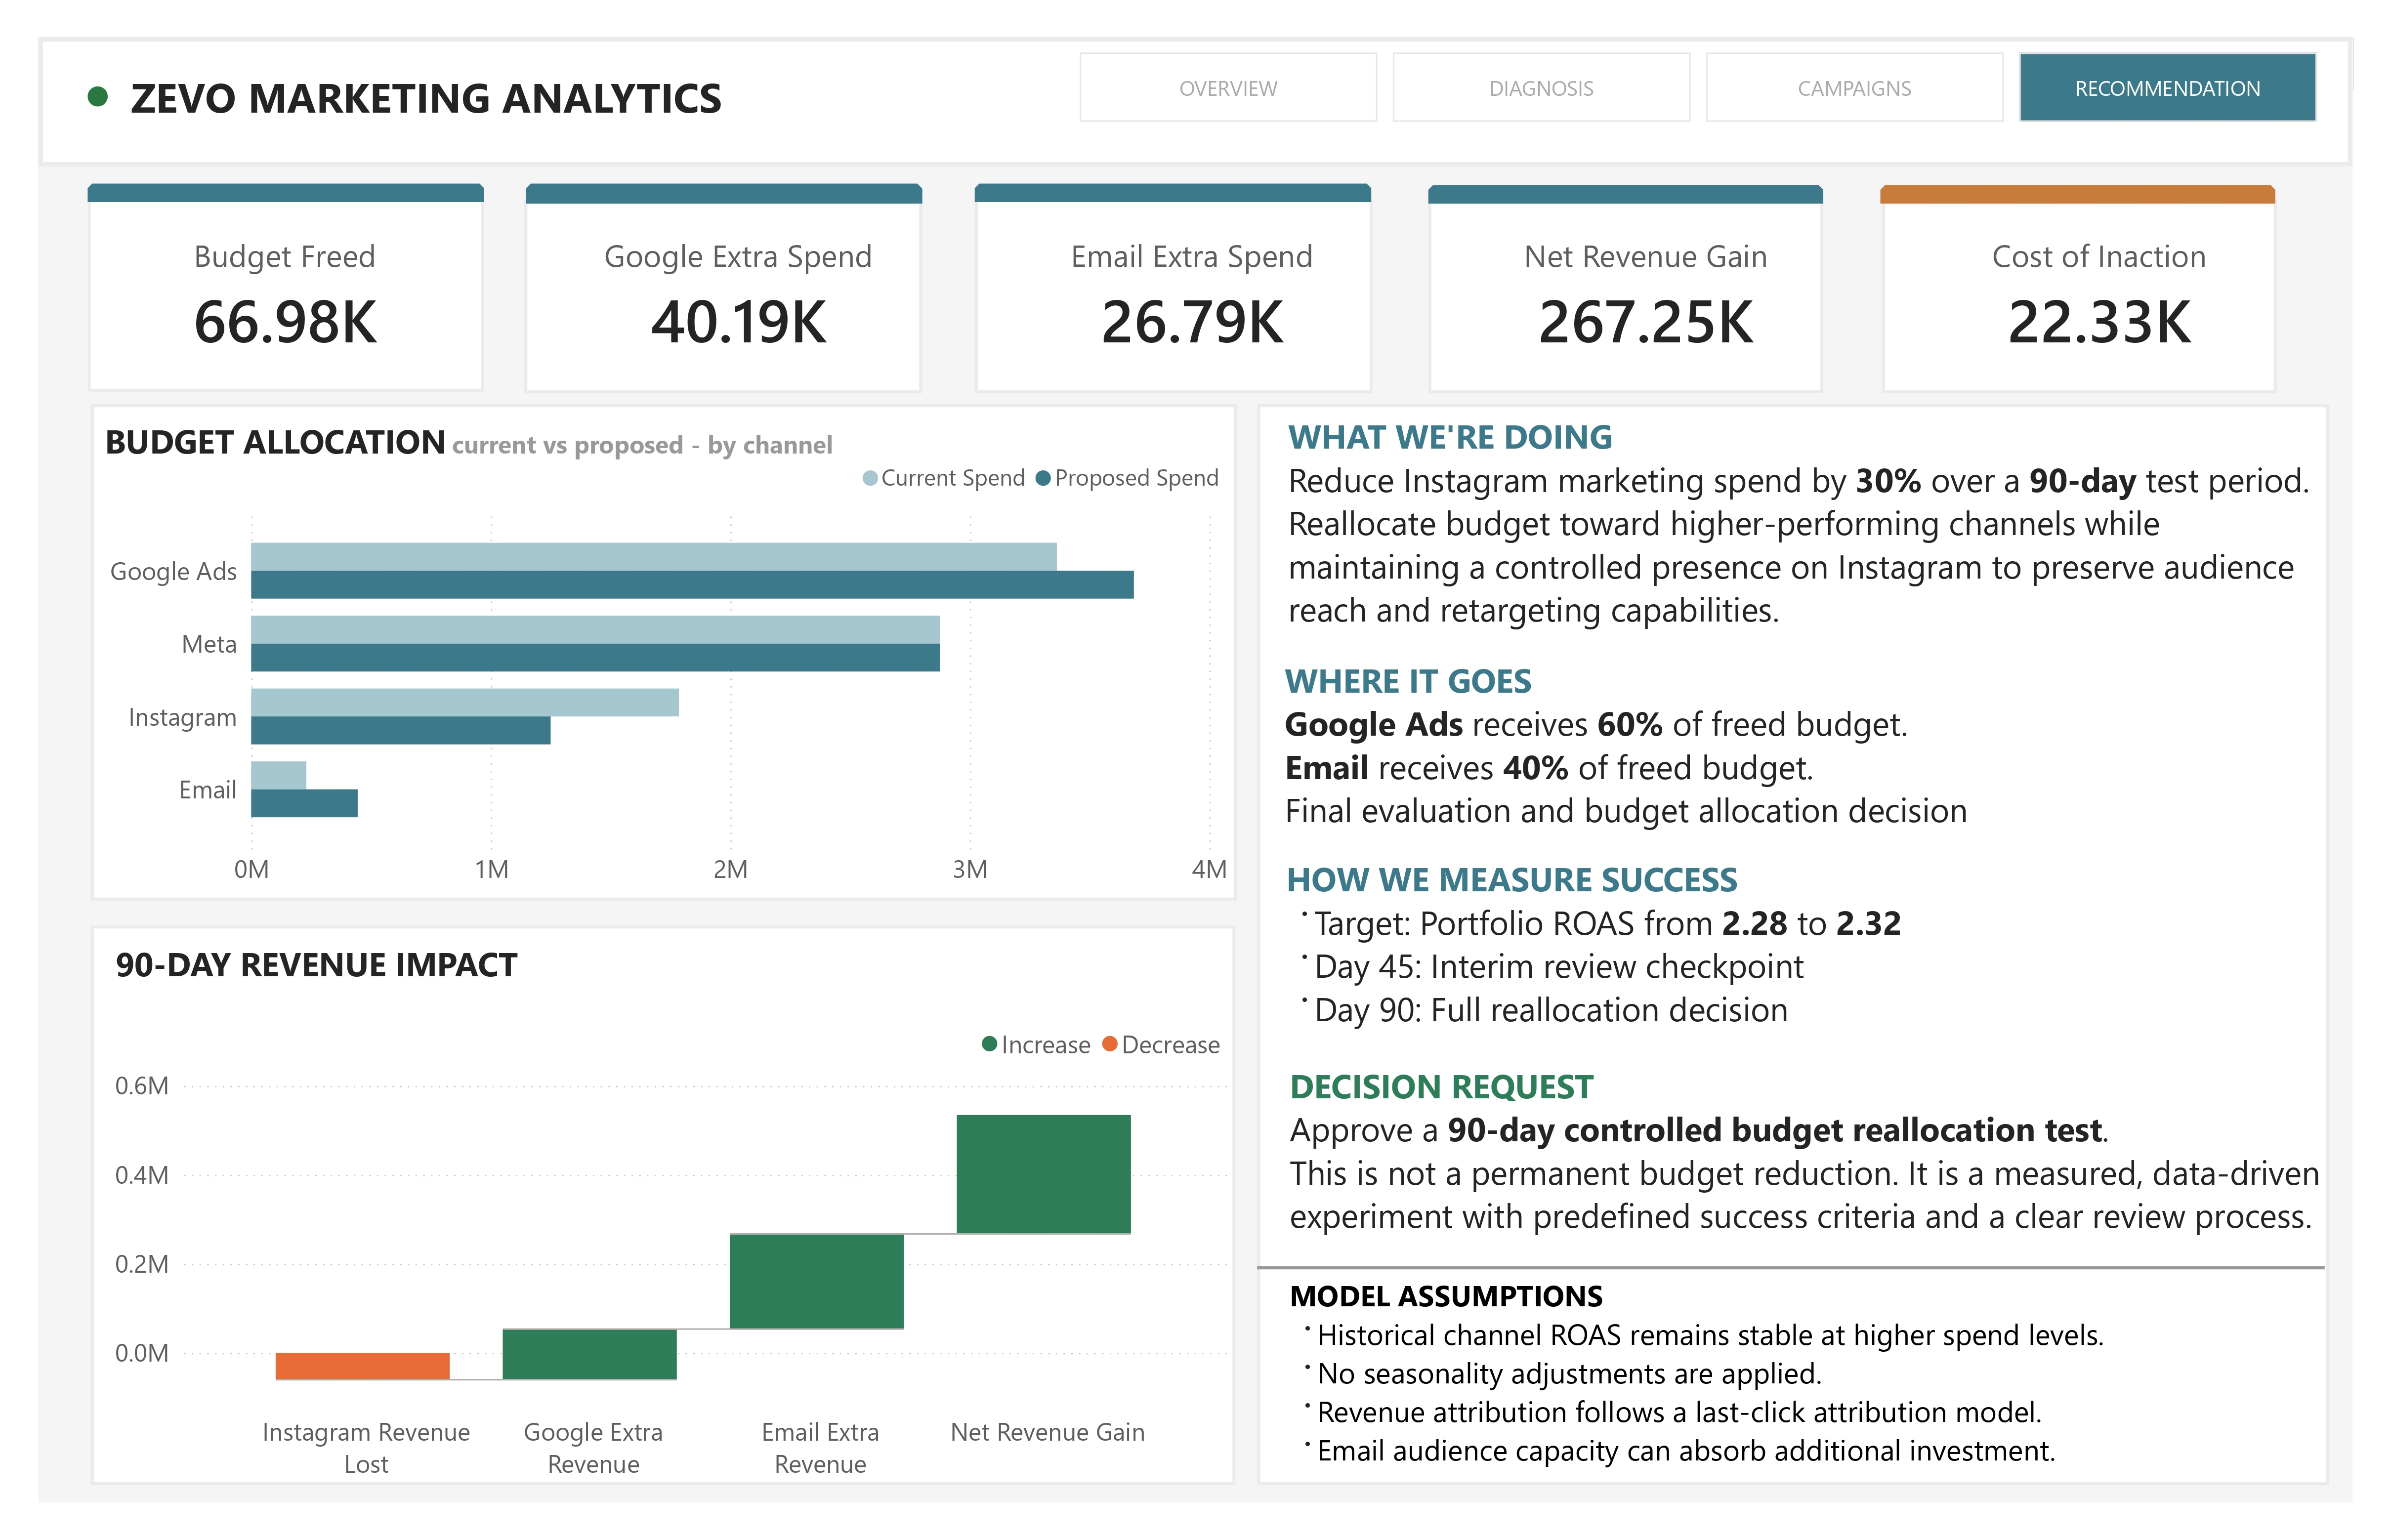

This screenshot's page, from the dashboard's own definition file:
{"tool":"powerbi","page":{"name":"RECOMMENDATION","canvas":[1500,950],"ordinal":3},"visuals":[{"type":"shape","title":"Canvas BG","box":[0,0,1500,950],"z":0},{"type":"shape","title":"Title BAR","box":[0,0,1500,83.6],"z":0,"group":"g1"},{"type":"shape","box":[31.6,95.5,257.4,12.3],"z":0,"group":"g5"},{"type":"shape","box":[31.7,105.5,257.1,124.9],"z":0,"group":"g3"},{"type":"shape","title":"ROAS Box","box":[33.9,237.5,743.3,322.2],"z":0,"group":"g2"},{"type":"shape","title":"Insight Box","box":[790,237.6,694.8,701],"z":0,"group":"g4"},{"type":"group","id":"g1","title":"Title Works","box":[0,0,1500,83.6],"z":1000},{"type":"textbox","title":"Zevo title","box":[54.5,15,434.1,53.6],"z":1000,"group":"g1"},{"type":"shape","box":[315.1,95.7,257.2,12.3],"z":1000,"group":"g5"},{"type":"shape","box":[314.4,105,257.9,126.2],"z":1000,"group":"g3"},{"type":"shape","title":"ROAS Box","box":[34,575.1,741.6,363.7],"z":1000,"group":"g2"},{"type":"shape","title":"Zevo DOT","box":[31.6,32.3,13.2,13.2],"z":2000,"group":"g1"},{"type":"shape","box":[606.1,95.4,257.7,12.3],"z":2000,"group":"g5"},{"type":"shape","box":[606.4,105,257.9,126.2],"z":2000,"group":"g3"},{"type":"group","id":"g2","title":"Chart Boxes","box":[33.9,237.5,743.3,701.3],"z":2000},{"type":"group","id":"g3","title":"Cards Box","box":[31.6,95.4,1418.5,135.8],"z":3000},{"type":"shape","box":[1193.8,96,256.1,12.5],"z":3000,"group":"g5"},{"type":"shape","box":[900.3,105,255.9,126.2],"z":3000,"group":"g3"},{"type":"shape","box":[900.3,96.2,256.1,12.2],"z":4000,"group":"g5"},{"type":"shape","box":[1194.2,105,255.9,126.2],"z":4000,"group":"g3"},{"type":"group","id":"g4","title":"Insight Boxes","box":[790,237.6,694.8,701],"z":4000},{"type":"group","id":"g5","title":"Top Bars","box":[31.6,95.4,1418.3,13.1],"z":5000,"group":"g3"},{"type":"cardVisual","fields":{"Data":["Sum(scenarios scenario_reallocation.budget_freed)","Sum(scenarios scenario_reallocation.google_extra_spend)","Sum(scenarios scenario_reallocation.email_extra_spend)","Sum(scenarios scenario_reallocation.net_revenue_gain_90days)","Sum(scenarios scenario_reallocation.cost_of_inaction_90days)"]},"box":[0,106.7,1500,120],"z":5000},{"type":"clusteredBarChart","title":"Current vs Proposed Budget Allocation.","fields":{"Category":["Budget_reallocation.Channel"],"Y":["Sum(Budget_reallocation.Current Spend)","Sum(Budget_reallocation.Proposed Spend)"]},"box":[36.2,265,740,295],"z":6000},{"type":"waterfallChart","title":"90-Day Revenue Impact of Reallocation","fields":{"Category":["Waterfall_data.Category"],"Y":["Sum(Waterfall_data.Amount)"]},"box":[44.3,631.4,732.9,311.4],"z":7000},{"type":"textbox","title":"What we are doing","box":[765,238.8,720,156.2],"z":8000},{"type":"textbox","title":"Where it goes","box":[803.1,396.9,483.8,133.8],"z":9000},{"type":"textbox","title":"Measure success","box":[803.8,526.2,646.2,134.6],"z":10000},{"type":"textbox","title":"Model Assumption","box":[806,798,644,152],"z":11000},{"type":"textbox","title":"Decision request","box":[806,660,682,126],"z":12000},{"type":"textbox","title":"Budget allocation title","box":[38,242,503,63],"z":13000},{"type":"textbox","title":"Waterfall Title","box":[45,581,357,50],"z":14000},{"type":"shape","box":[790,648,692,300],"z":15000},{"type":"pageNavigator","box":[675,10,805,45],"z":16000}]}

Visuals, with their boxes on the page's 1500x950 design canvas (x1, y1, x2, y2). These are canvas units, not pixel positions in the 2391x1540 screenshot, which may show the page scaled, cropped or inside an application window:
"Canvas BG" shape: 0 0 1500 950
"Title BAR" shape: 0 0 1500 84
shape: 32 96 289 108
shape: 32 106 289 230
"ROAS Box" shape: 34 238 777 560
"Insight Box" shape: 790 238 1485 939
"Title Works" group: 0 0 1500 84
"Zevo title" textbox: 54 15 489 69
shape: 315 96 572 108
shape: 314 105 572 231
"ROAS Box" shape: 34 575 776 939
"Zevo DOT" shape: 32 32 45 46
shape: 606 95 864 108
shape: 606 105 864 231
"Chart Boxes" group: 34 238 777 939
"Cards Box" group: 32 95 1450 231
shape: 1194 96 1450 108
shape: 900 105 1156 231
shape: 900 96 1156 108
shape: 1194 105 1450 231
"Insight Boxes" group: 790 238 1485 939
"Top Bars" group: 32 95 1450 108
cardVisual - Sum(scenarios scenario_reallocation.budget_freed) x Sum(scenarios scenario_reallocation.google_extra_spend): 0 107 1500 227
"Current vs Proposed Budget Allocation." clusteredBarChart: 36 265 776 560
"90-Day Revenue Impact of Reallocation" waterfallChart: 44 631 777 943
"What we are doing" textbox: 765 239 1485 395
"Where it goes" textbox: 803 397 1287 531
"Measure success" textbox: 804 526 1450 661
"Model Assumption" textbox: 806 798 1450 950
"Decision request" textbox: 806 660 1488 786
"Budget allocation title" textbox: 38 242 541 305
"Waterfall Title" textbox: 45 581 402 631
shape: 790 648 1482 948
pageNavigator: 675 10 1480 55
